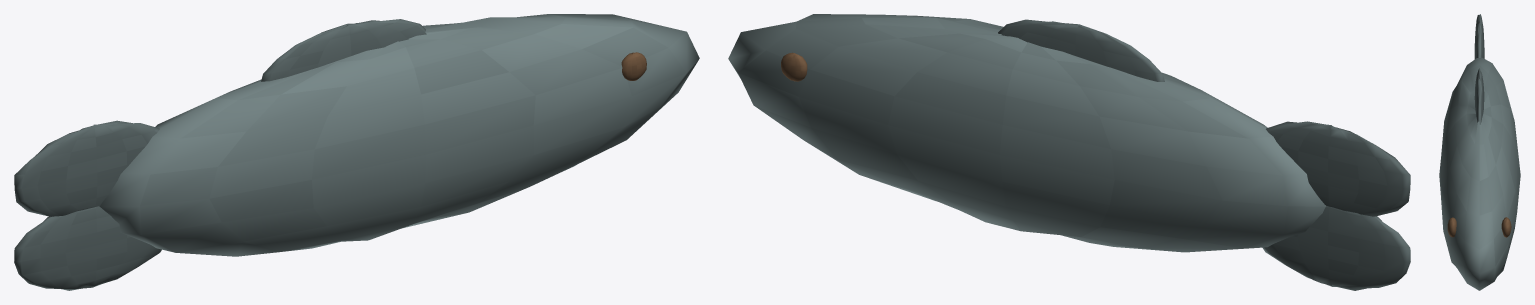
The model's file is Salmon.glb.
3 views of the same model, side by side, from view 1: azimuth 30°, elevation 25°; view 2: azimuth 150°, elevation 25°; view 3: azimuth 270°, elevation 25° (orthographic). The views are drawn at different scales.
Parts seen in each view (by area): view 1: Salmon; view 2: Salmon; view 3: Salmon.
Boxes of the visible parts, x1,y1,x2,y2 form: Salmon: (14,14,699,290); Salmon: (728,14,1410,290); Salmon: (1439,14,1520,290).
Size of what is drawn, in the model's own units: 0.3128 by 0.095 by 0.0483.
